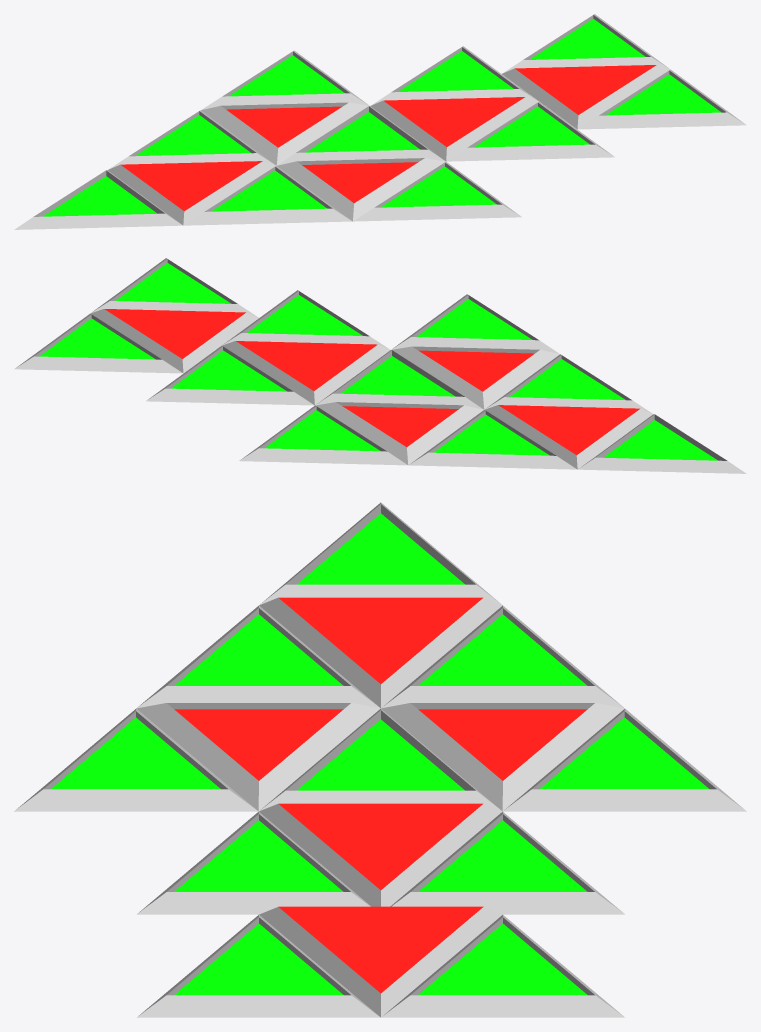
File: seta.fbx
3 views of the same model, one above another, from view 1: azimuth 30°, elevation 25°; view 2: azimuth 150°, elevation 25°; view 3: azimuth 270°, elevation 25° (orthographic). The views are drawn at different scales.
Visible parts, largest first — view 1: seta; view 2: seta; view 3: seta.
Boxes of the visible parts, x1,y1,x2,y2 form: seta: (14,14,746,229); seta: (14,258,746,473); seta: (14,502,746,1017).
Size of the model in its own units: 1319 by 16.62 by 793.
